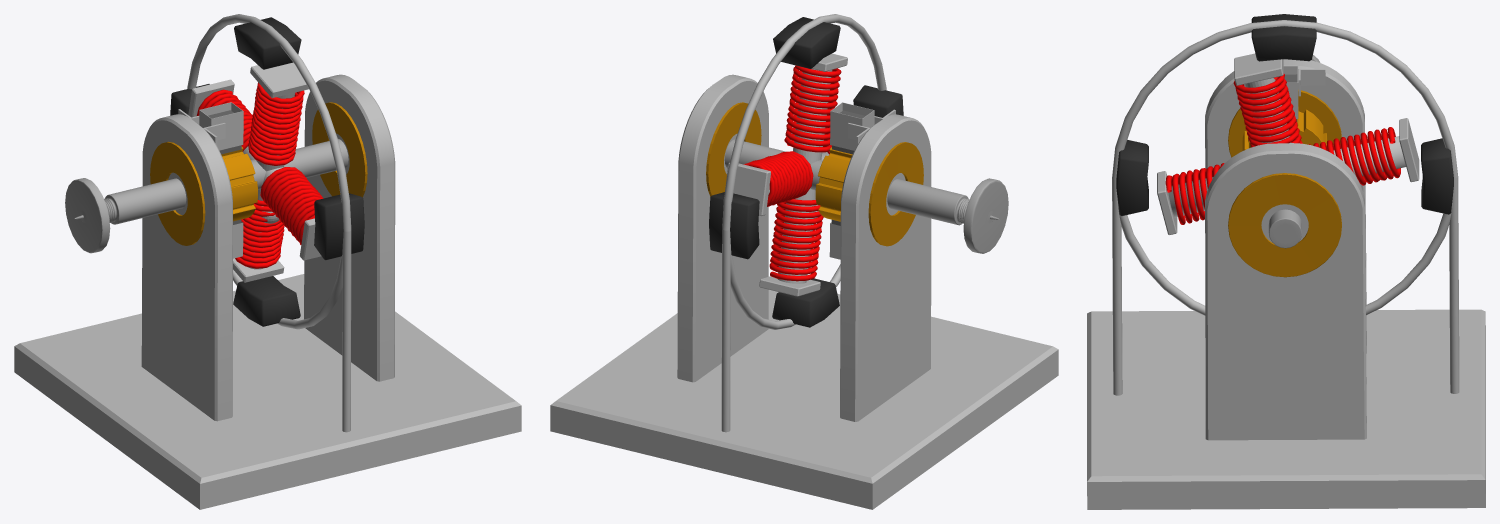
Rendered from motar.fbx.
The picture shows the model from 3 angles, left to right: view 1: azimuth 30°, elevation 25°; view 2: azimuth 150°, elevation 25°; view 3: azimuth 270°, elevation 25°; orthographic projection. The views are drawn at different scales.
Visible parts, largest first — view 1: MOUNT_0, MAGNETS_0, MAGNET_RETAINER_0, BEARINGS_0, polySurface1, WINDINGBOTTOM_0, WINDINGRIGHT_0, polySurface2, WINDINGTOP_0, bruskcontact_0, Cube.003_0, bruush..hsg.upper_0 (+4 smaller); view 2: MOUNT_0, MAGNETS_0, MAGNET_RETAINER_0, BEARINGS_0, WINDINGBOTTOM_0, WINDINGTOP_0, polySurface1, polySurface2, WINDINGLEFT_0, bruskcontact_0, WINDINGCORE2_0, bruush..hsg.upper_0 (+2 smaller); view 3: MOUNT_0, MAGNET_RETAINER_0, BEARINGS_0, MAGNETS_0, WINDINGBOTTOM_0, WINDINGLEFT_0, WINDINGRIGHT_0, WINDINGCORE1_0, Cube.003_0, polySurface1, bruskcontact_0, Cube.002_0 (+4 smaller).
Boxes of the visible parts, box(x1,y1,x2,y2) form: MOUNT_0: box(14, 74, 521, 509); MAGNETS_0: box(170, 17, 364, 326); MAGNET_RETAINER_0: box(187, 14, 351, 432); BEARINGS_0: box(150, 102, 367, 245); polySurface1: box(74, 139, 348, 224); WINDINGBOTTOM_0: box(248, 82, 304, 165); WINDINGRIGHT_0: box(260, 167, 323, 244); polySurface2: box(65, 178, 110, 253); WINDINGTOP_0: box(235, 200, 284, 268); bruskcontact_0: box(221, 146, 257, 221); Cube.003_0: box(250, 62, 308, 97); bruush..hsg.upper_0: box(199, 102, 243, 150); MOUNT_0: box(550, 74, 1058, 509); MAGNETS_0: box(709, 17, 903, 327); MAGNET_RETAINER_0: box(721, 14, 886, 432); BEARINGS_0: box(706, 102, 923, 246); WINDINGBOTTOM_0: box(784, 65, 841, 152); WINDINGTOP_0: box(769, 199, 823, 281); polySurface1: box(724, 139, 999, 225); polySurface2: box(963, 178, 1008, 253); WINDINGLEFT_0: box(743, 151, 813, 206); bruskcontact_0: box(815, 147, 852, 221); WINDINGCORE2_0: box(778, 68, 832, 283); bruush..hsg.upper_0: box(830, 102, 874, 150); MOUNT_0: box(1087, 59, 1485, 509); MAGNET_RETAINER_0: box(1112, 20, 1459, 395); BEARINGS_0: box(1228, 90, 1341, 277); MAGNETS_0: box(1116, 14, 1453, 215); WINDINGBOTTOM_0: box(1233, 73, 1302, 147); WINDINGLEFT_0: box(1308, 127, 1400, 185); WINDINGRIGHT_0: box(1165, 163, 1224, 224); WINDINGCORE1_0: box(1168, 136, 1405, 217); Cube.003_0: box(1234, 53, 1283, 85); polySurface1: box(1268, 209, 1301, 248); bruskcontact_0: box(1242, 107, 1327, 150); Cube.002_0: box(1399, 118, 1419, 182).
Size of the model in its own units: 604 by 615 by 548.
